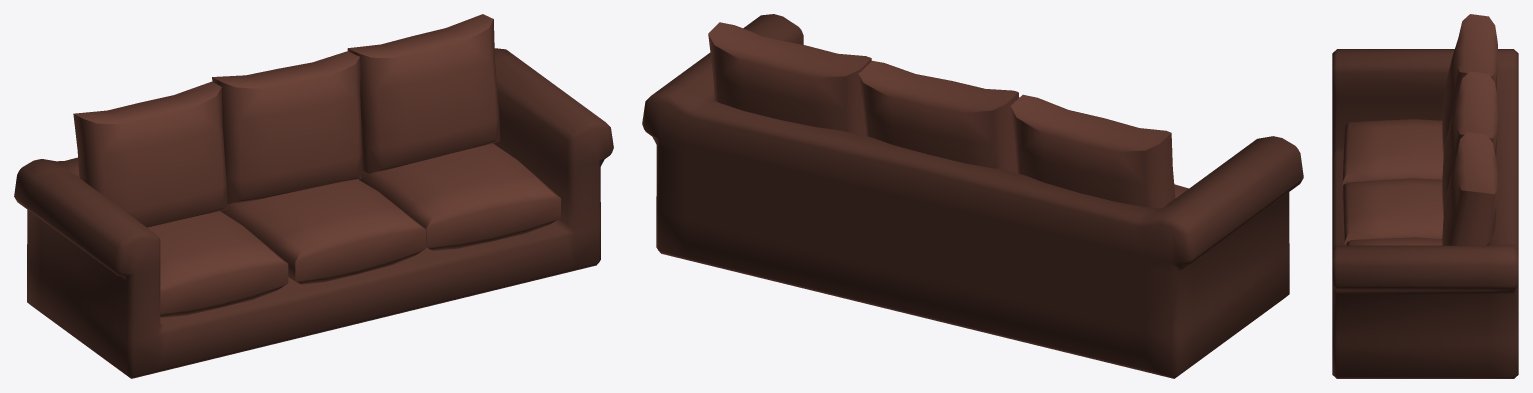
Rendered from couch-large1.glb.
3 views of the same model, side by side, from view 1: azimuth 30°, elevation 25°; view 2: azimuth 150°, elevation 25°; view 3: azimuth 270°, elevation 25° (orthographic). The views are drawn at different scales.
Parts seen in each view (by area): view 1: Couch_Large1; view 2: Couch_Large1; view 3: Couch_Large1.
Part boxes in pixels (bbox=[...]): Couch_Large1: bbox=[14, 14, 613, 378]; Couch_Large1: bbox=[642, 14, 1303, 378]; Couch_Large1: bbox=[1332, 14, 1518, 378].
Bounding box in the file's own units: 5.48 × 2.11 × 1.99.
